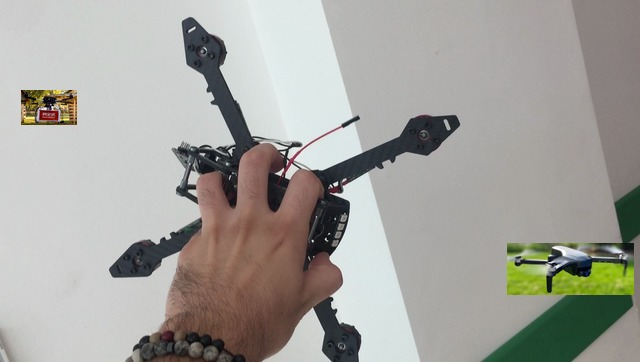drone: (106, 17, 462, 362), (507, 243, 634, 295), (21, 90, 77, 125)
